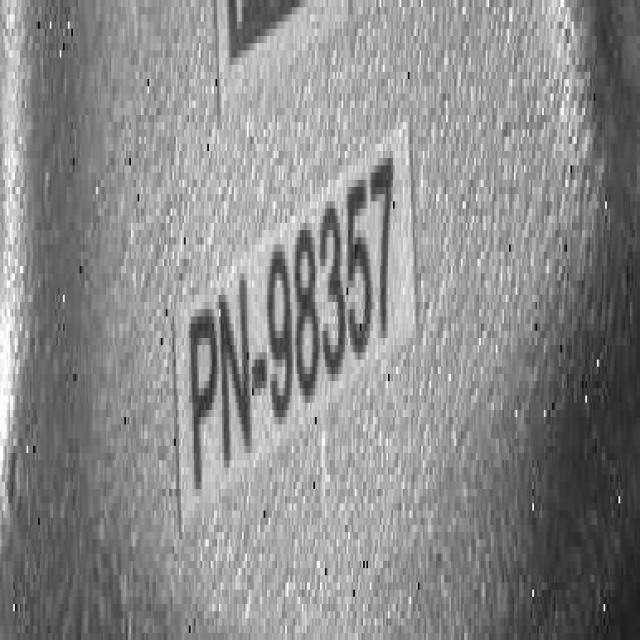ocr: (187, 134, 423, 539)
